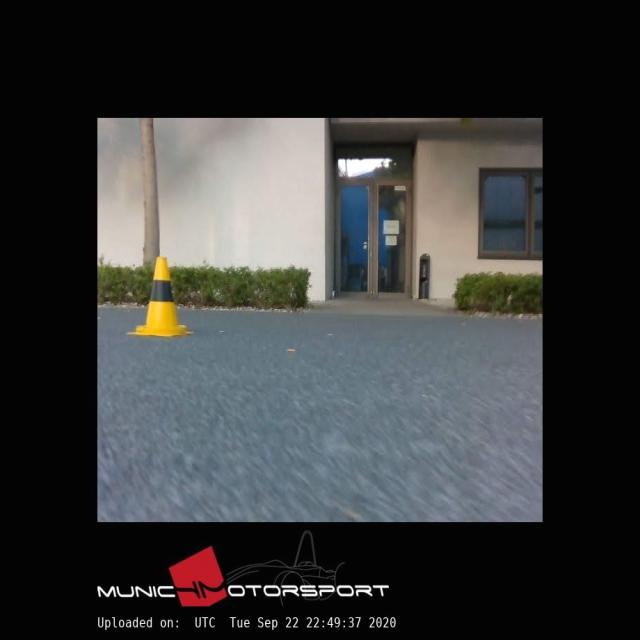yellow_cone: (128, 256, 192, 336)
